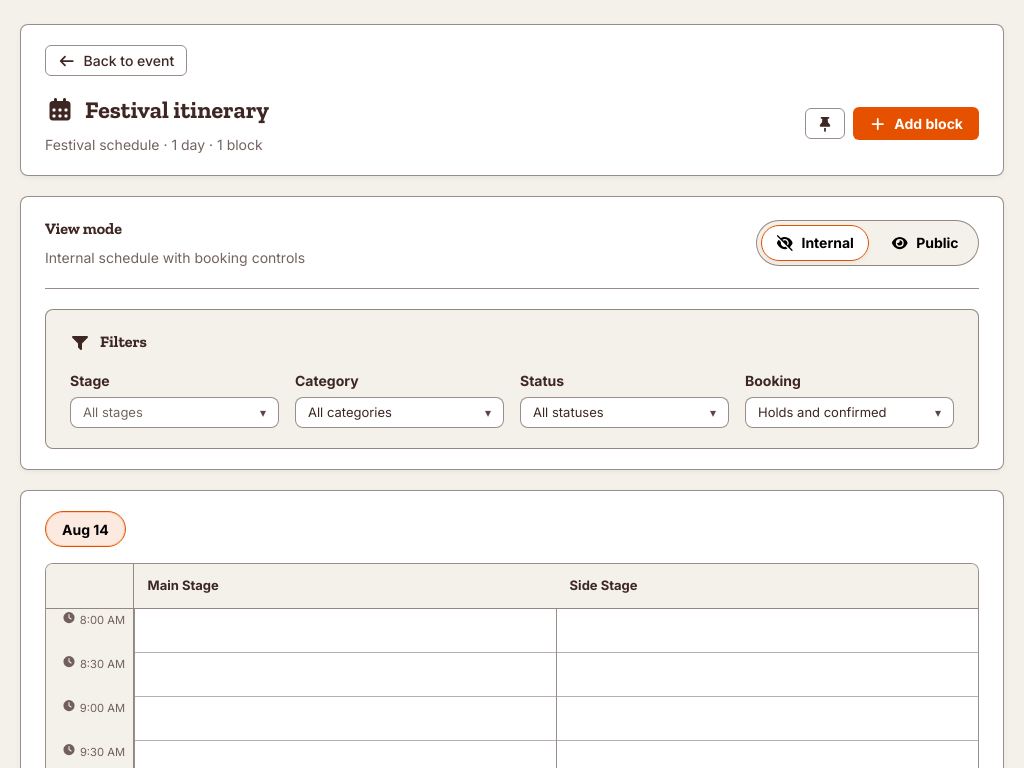
it: FestivalItineraryPage › switches to public view mode
Step 1. Click the button with test id "festival-view-public" → (925, 242), box [875,224,974,260]
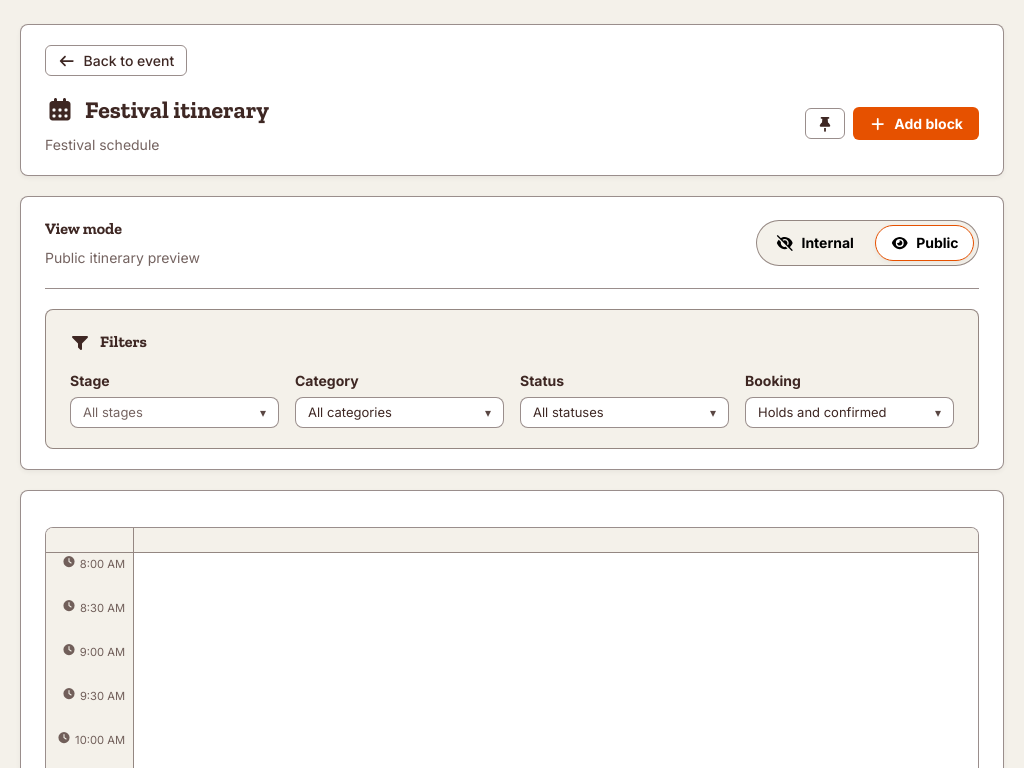
expect the text with test id "festival-view-active-label" reads "Public itinerary preview": met, box [45,249,200,266]
